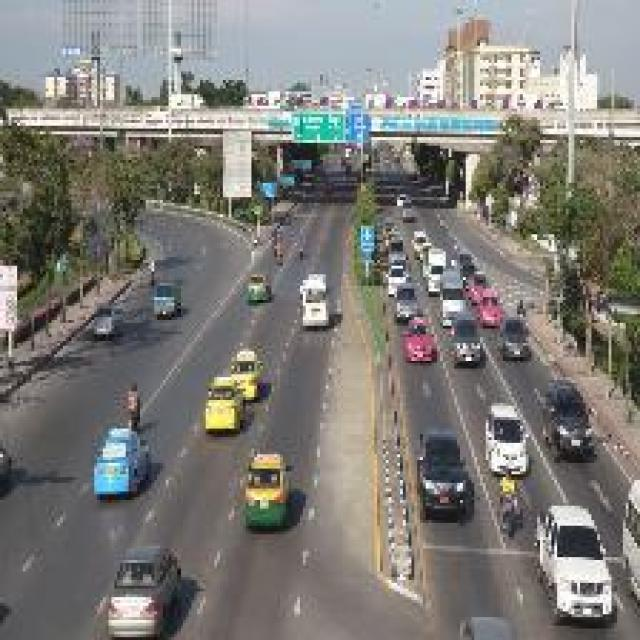other: (201, 334, 266, 434), (390, 302, 442, 367), (467, 280, 498, 325)
